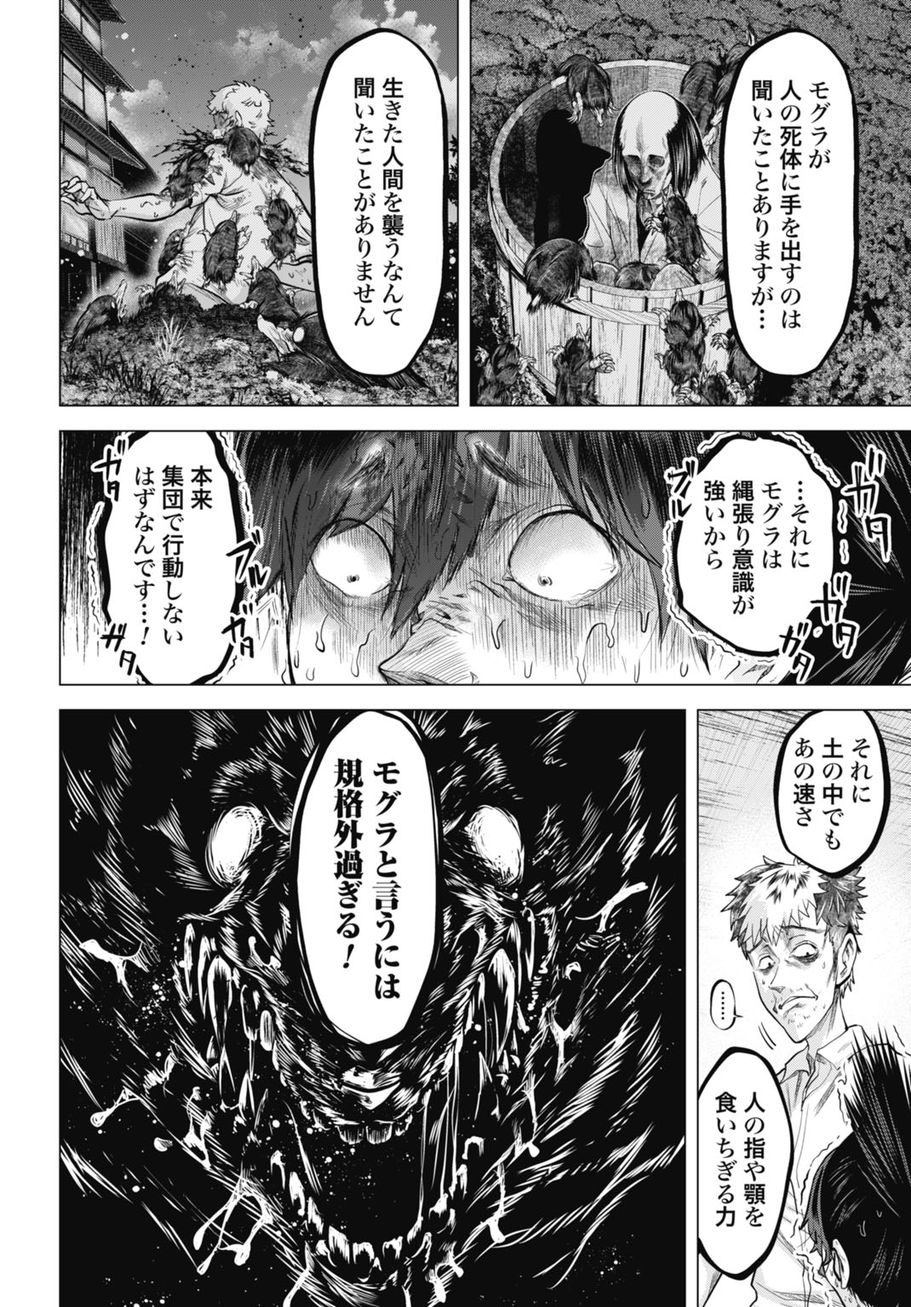bubbles: (282, 713, 452, 1053), (307, 26, 454, 385), (713, 27, 862, 375), (658, 431, 856, 670), (87, 430, 265, 687), (697, 1044, 799, 1291), (769, 710, 897, 883), (708, 975, 747, 1031)
